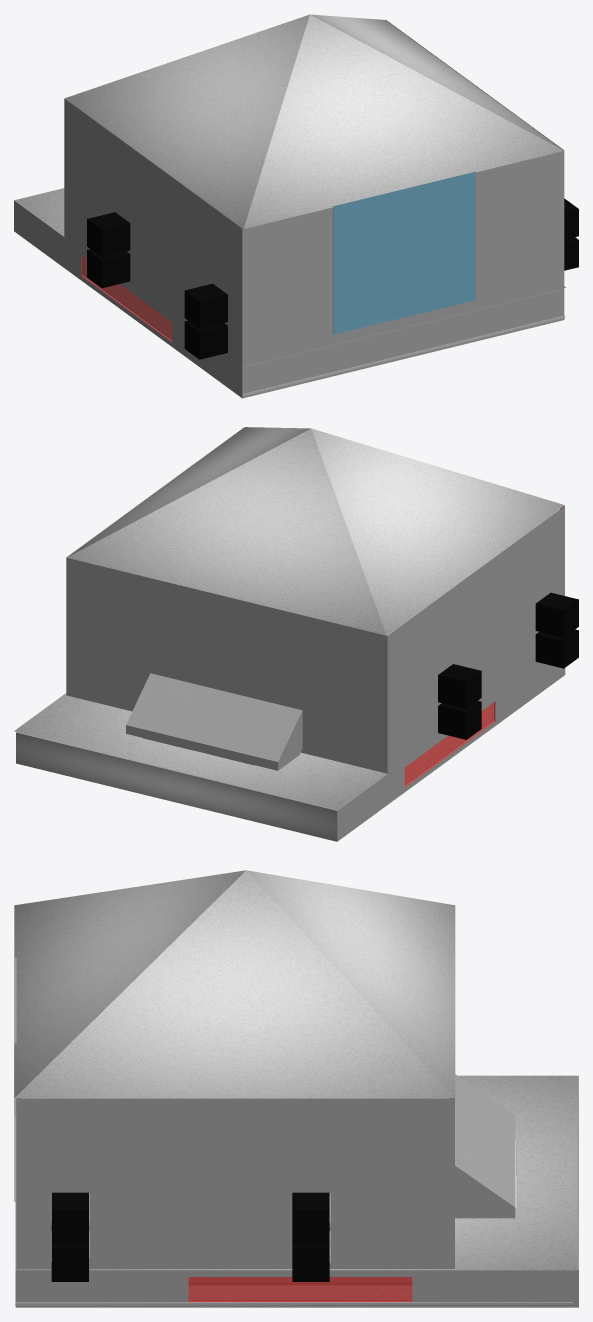
Rendered from Blue Throne Room.fbx.
3 renders of one model, top to bottom at view 1: azimuth 30°, elevation 25°; view 2: azimuth 150°, elevation 25°; view 3: azimuth 270°, elevation 25°, orthographic. The views are drawn at different scales.
Visible parts, largest first — view 1: Main_Room1, pCube24; view 2: Main_Room1; view 3: Main_Room1, pCube24, pCube25.
Part boxes in pixels (<box>): Main_Room1: <box>14,14,578,398</box>; pCube24: <box>82,275,564,396</box>; Main_Room1: <box>14,427,578,841</box>; Main_Room1: <box>14,870,578,1307</box>; pCube24: <box>15,1202,572,1305</box>; pCube25: <box>189,1141,516,1284</box>.
Bounding box in the file's own units: 288 × 201 × 301.
